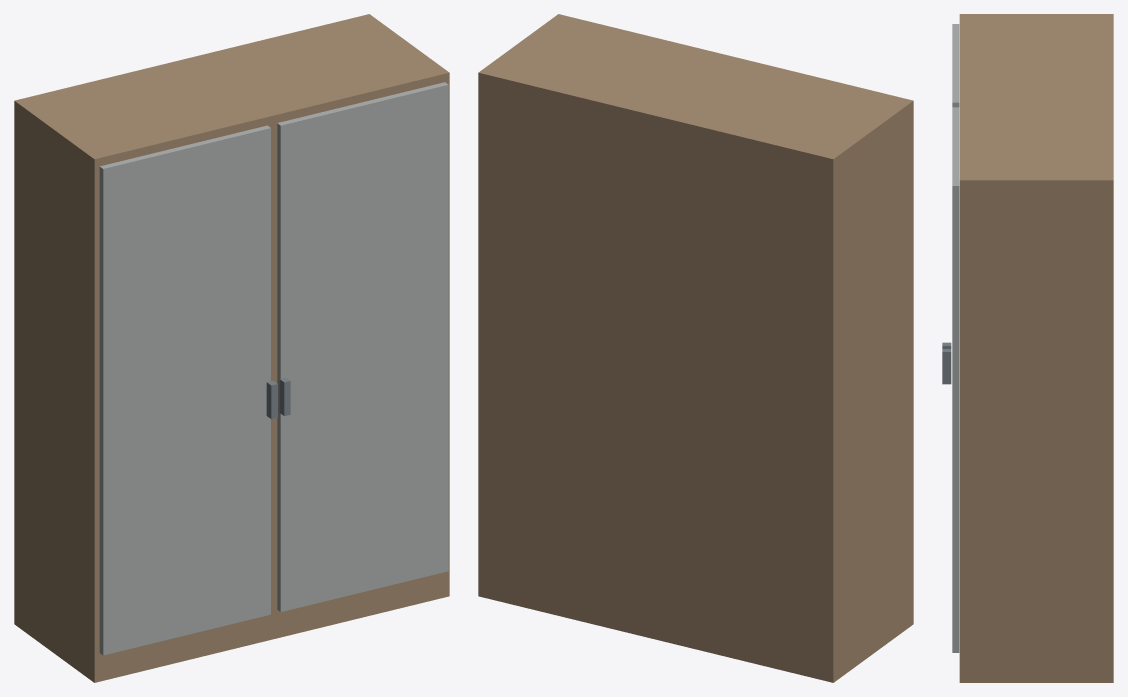
File: STO-006.glb
3 renders of one model, left to right at view 1: azimuth 30°, elevation 25°; view 2: azimuth 150°, elevation 25°; view 3: azimuth 270°, elevation 25°, orthographic. The views are drawn at different scales.
Parts seen in each view (by area): view 1: 000_Cabinet_body, 001_Cabinet_door_L, 002_Cabinet_door_R; view 2: 000_Cabinet_body; view 3: 000_Cabinet_body, 002_Cabinet_door_R, 001_Cabinet_door_L, 007_Door_pull.
Boxes of the visible parts, left/top/right/bottom form: 000_Cabinet_body: left=14, top=14, right=449, bottom=682; 001_Cabinet_door_L: left=99, top=125, right=270, bottom=655; 002_Cabinet_door_R: left=277, top=82, right=448, bottom=611; 000_Cabinet_body: left=478, top=14, right=913, bottom=682; 000_Cabinet_body: left=959, top=14, right=1113, bottom=682; 002_Cabinet_door_R: left=952, top=107, right=959, bottom=652; 001_Cabinet_door_L: left=952, top=24, right=959, bottom=107; 007_Door_pull: left=942, top=349, right=951, bottom=384.
Bounding box in the file's own units: 1.1 × 1.55 × 0.4785.
